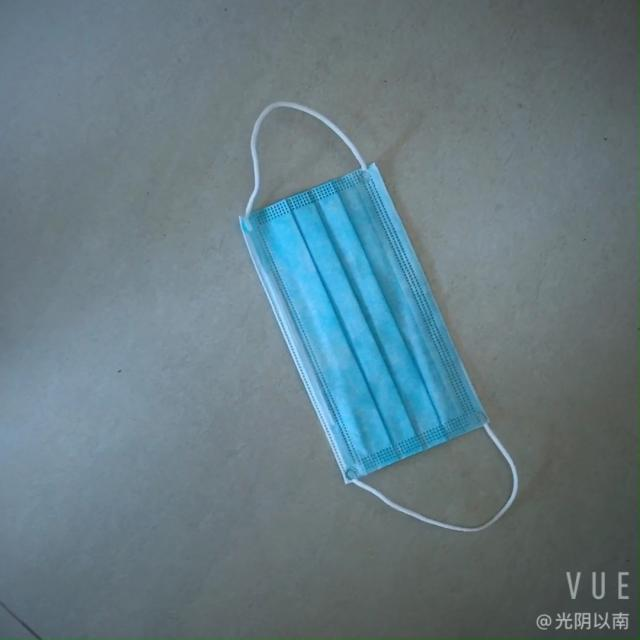non-organic waste: (210, 154, 504, 489)
